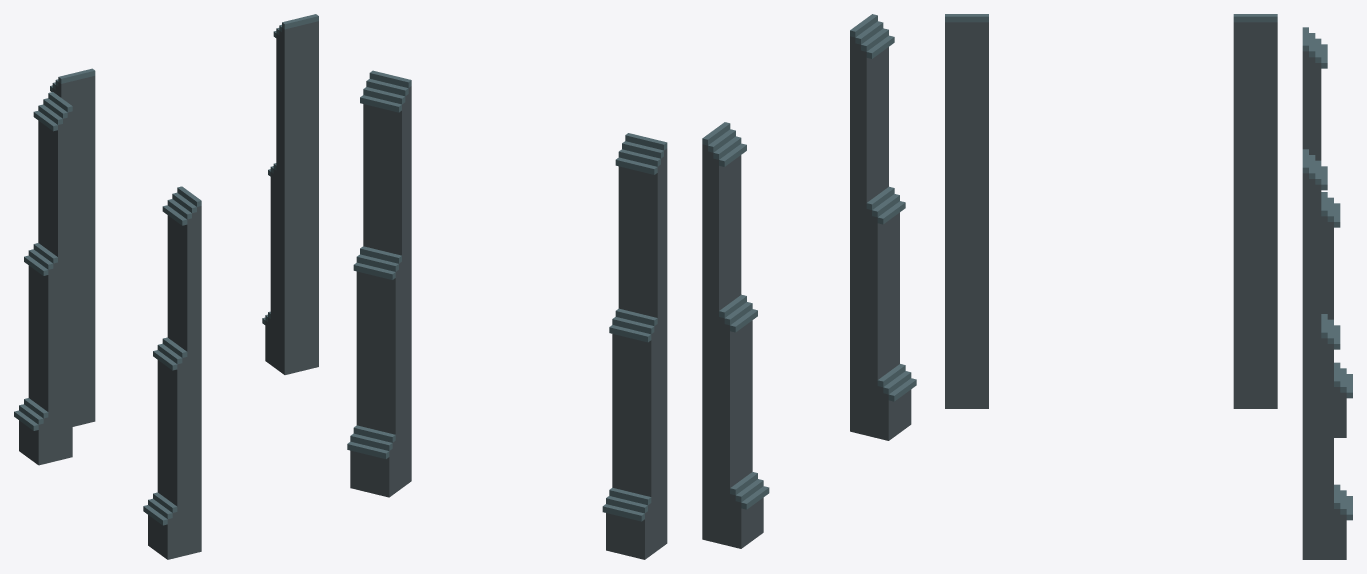
Rendered from grassy_field-8.obj.
3 views of the same model, side by side, from view 1: azimuth 30°, elevation 25°; view 2: azimuth 150°, elevation 25°; view 3: azimuth 270°, elevation 25° (orthographic). The views are drawn at different scales.
Size of the model in its own units: 6.5 by 6.9 by 6.5.
Materials: 1 (1 with a texture image).
